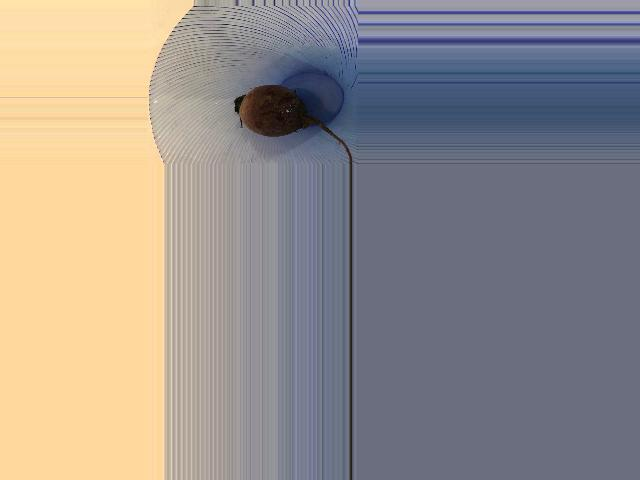beet: (233, 85, 351, 165)
